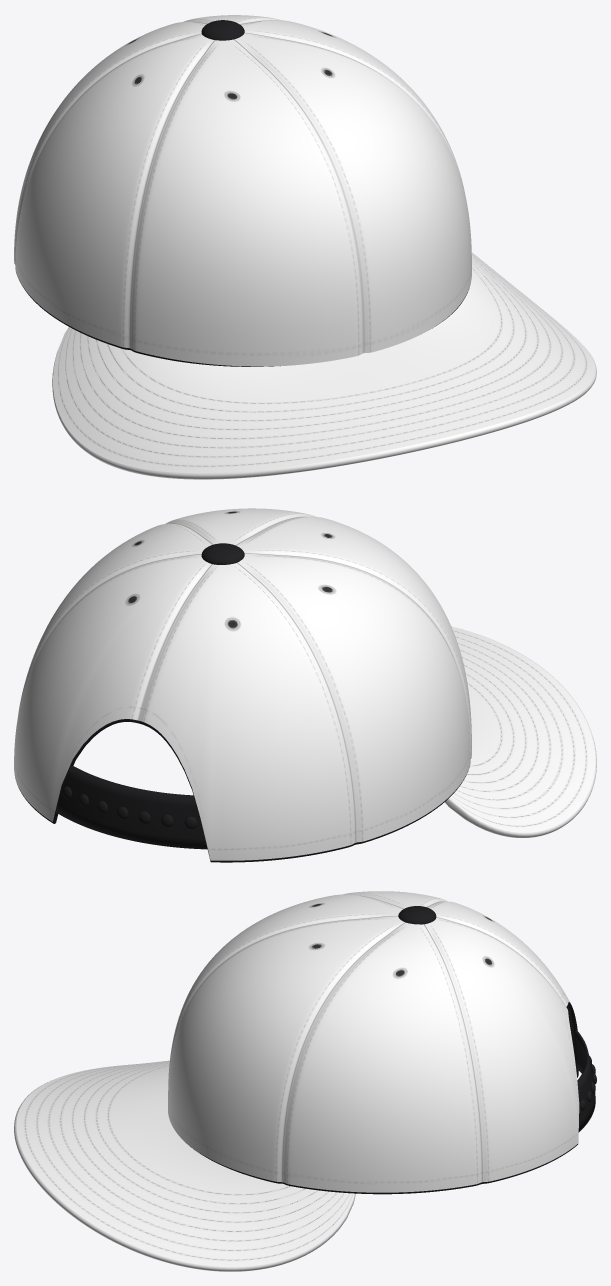
Rendered from elembo-casquette.glb.
The picture shows the model from 3 angles, top to bottom: view 1: azimuth 30°, elevation 25°; view 2: azimuth 150°, elevation 25°; view 3: azimuth 270°, elevation 25°; orthographic projection. The views are drawn at different scales.
Parts seen in each view (by area): view 1: CAP_CROWN, CAP_VISOR_TOP, CAP_VISOR_EDGE, CAP_BUTTON; view 2: CAP_CROWN, CAP_VISOR_TOP, CAP_STRAP, CAP_BINDING, CAP_VISOR_EDGE, CAP_SNAPS, CAP_BUTTON; view 3: CAP_CROWN, CAP_VISOR_TOP, CAP_VISOR_EDGE, CAP_STRAP, CAP_BINDING, CAP_BUTTON.
Part boxes in pixels (x1,y1,x2,y2): CAP_CROWN: (14, 15, 471, 366); CAP_VISOR_TOP: (53, 252, 595, 473); CAP_VISOR_EDGE: (52, 349, 596, 479); CAP_BUTTON: (201, 20, 244, 40); CAP_CROWN: (14, 508, 471, 860); CAP_VISOR_TOP: (449, 627, 595, 832); CAP_STRAP: (56, 766, 207, 849); CAP_BINDING: (17, 719, 471, 862); CAP_VISOR_EDGE: (445, 626, 596, 837); CAP_SNAPS: (62, 786, 197, 829); CAP_BUTTON: (201, 543, 244, 564); CAP_CROWN: (168, 891, 579, 1192); CAP_VISOR_TOP: (16, 1060, 353, 1267); CAP_VISOR_EDGE: (14, 1082, 355, 1271); CAP_STRAP: (575, 1030, 595, 1132); CAP_BINDING: (186, 1002, 579, 1194); CAP_BUTTON: (398, 906, 436, 924).
Bounding box in the file's own units: 0.2256 × 0.1316 × 0.2676.
13 materials, 7 textured.
